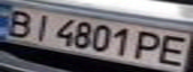0: (90, 22, 115, 54)
1: (109, 25, 136, 57)
4: (51, 16, 78, 47)
8: (69, 20, 93, 51)
B: (0, 7, 39, 38)
E: (151, 33, 193, 67)
I: (24, 11, 57, 42)
P: (133, 28, 169, 62)
